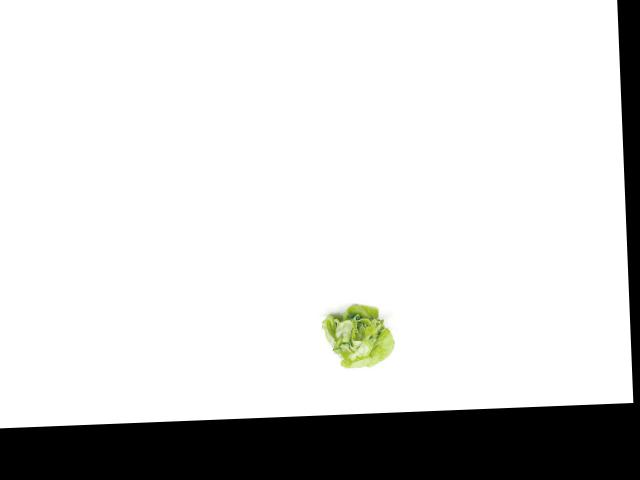lettuce: (319, 298, 396, 375)
